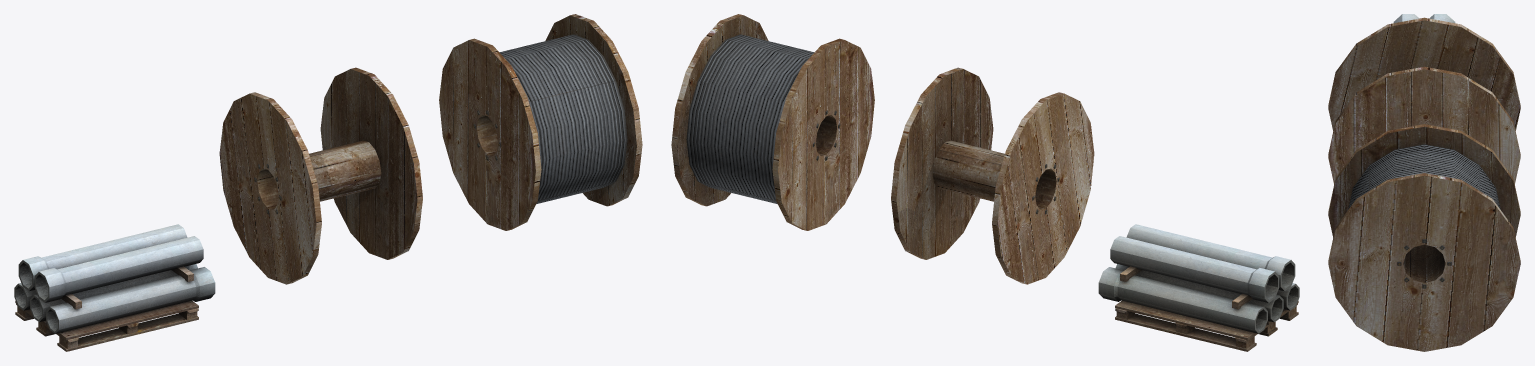
The model's file is RandomAssets3.FBX.
3 views of the same model, side by side, from view 1: azimuth 30°, elevation 25°; view 2: azimuth 150°, elevation 25°; view 3: azimuth 270°, elevation 25° (orthographic).
Visible parts, largest first — view 1: Asset3, Asset2, Asset1; view 2: Asset3, Asset2, Asset1; view 3: Asset3, Asset2, Asset1.
Boxes of the visible parts, x1,y1,x2,y2 form: Asset3: (439,14,642,230); Asset2: (219,67,422,284); Asset1: (14,224,215,351); Asset3: (671,14,874,230); Asset2: (891,67,1094,284); Asset1: (1098,224,1299,351); Asset3: (1328,124,1520,351); Asset2: (1328,17,1520,184); Asset1: (1393,14,1455,22).
Size of the model in its own units: 203 by 60.88 by 61.5.
